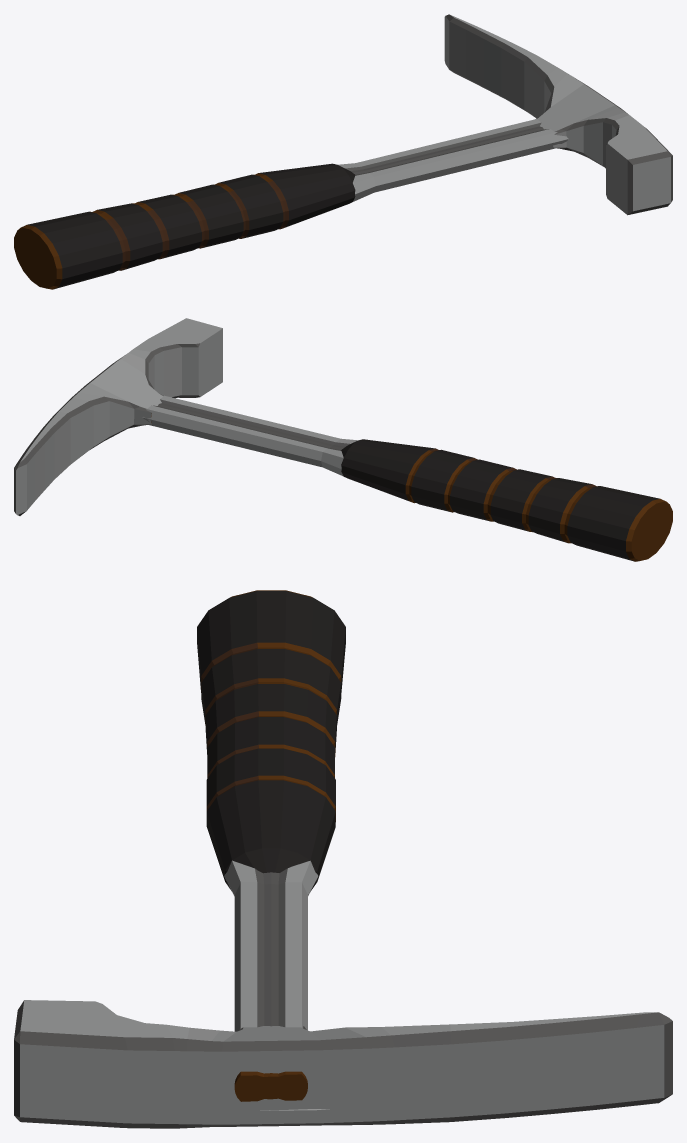
File: WorldItem_BrickHammer.fbx
The picture shows the model from 3 angles, top to bottom: view 1: azimuth 30°, elevation 25°; view 2: azimuth 150°, elevation 25°; view 3: azimuth 270°, elevation 25°; orthographic projection. The views are drawn at different scales.
Visible parts, largest first — view 1: ZomboidBrickHammer; view 2: ZomboidBrickHammer; view 3: ZomboidBrickHammer.
Boxes of the visible parts, x1,y1,x2,y2 form: ZomboidBrickHammer: [14, 14, 672, 289]; ZomboidBrickHammer: [14, 318, 672, 561]; ZomboidBrickHammer: [14, 590, 672, 1128].
Bounding box in the file's own units: 0.2712 × 0.0252 × 0.1654.
